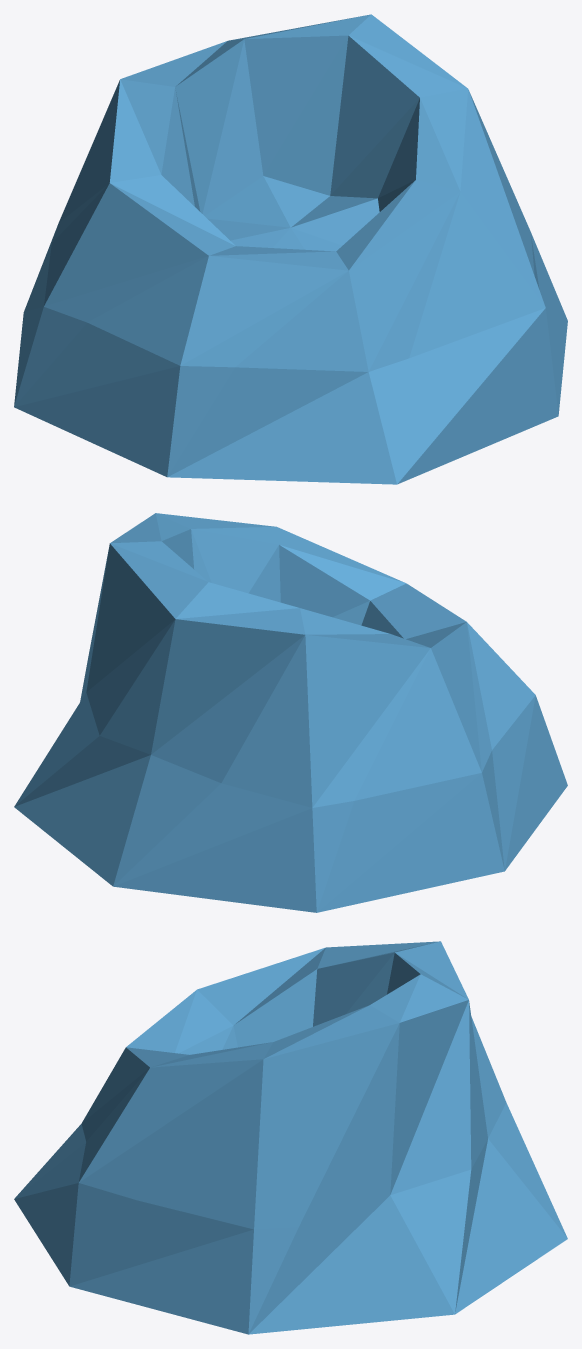
Rendered from SP_Plant03.fbx.
3 views of the same model, one above another, from view 1: azimuth 30°, elevation 25°; view 2: azimuth 150°, elevation 25°; view 3: azimuth 270°, elevation 25° (orthographic). The views are drawn at different scales.
Parts seen in each view (by area): view 1: SP_Plant03; view 2: SP_Plant03; view 3: SP_Plant03.
Part boxes in pixels (x1,y1,x2,y2): SP_Plant03: (14,14,567,484); SP_Plant03: (14,513,567,912); SP_Plant03: (14,941,567,1334).
Size of the model in its own units: 55.57 by 29.06 by 56.4.
Materials: 1 (1 with a texture image).
